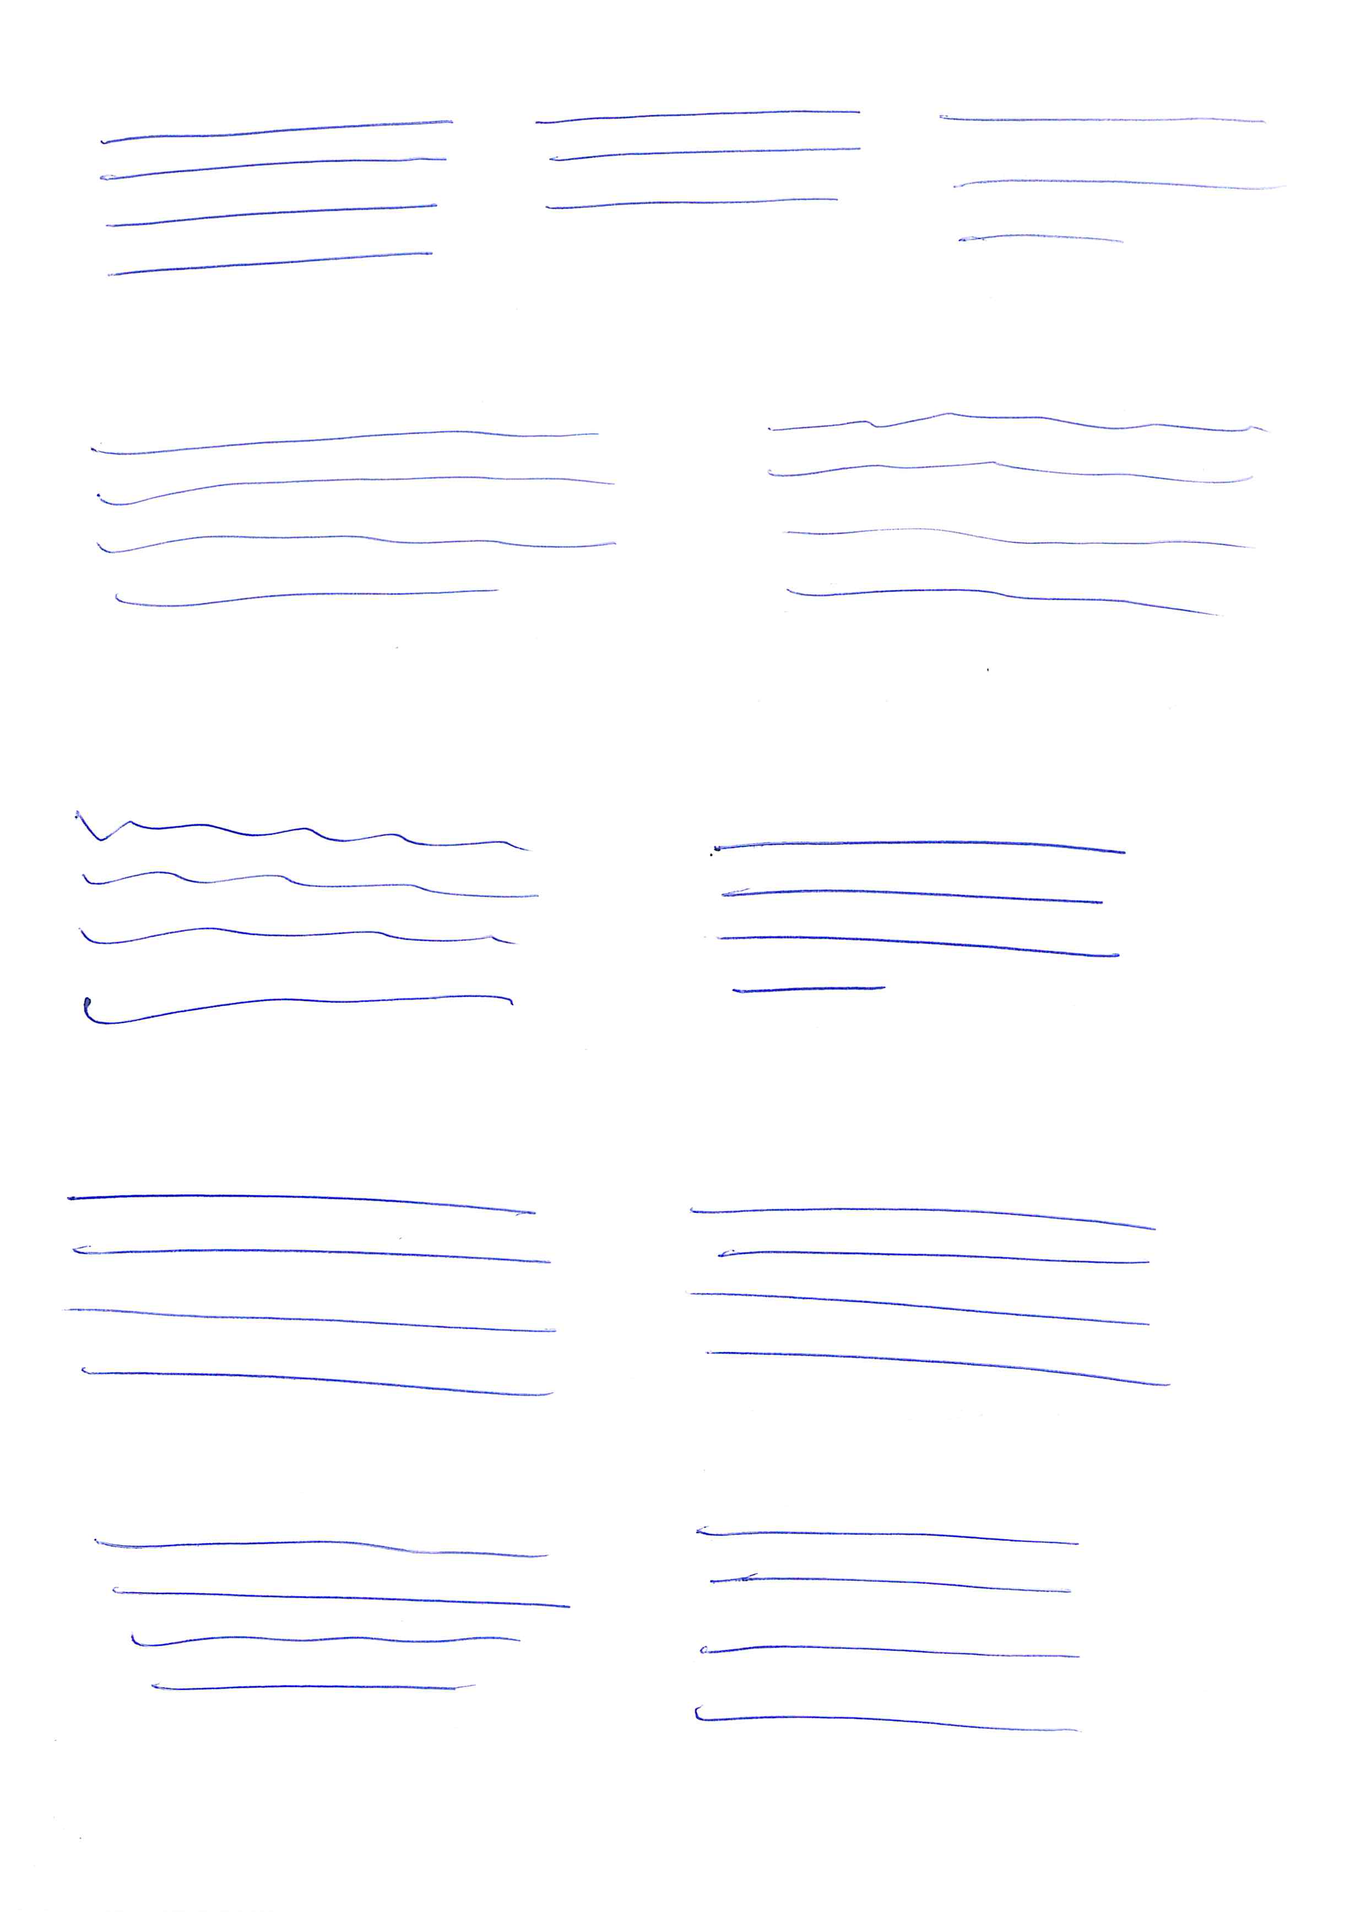Paragraph: (758, 401, 1282, 621), (55, 803, 543, 1034), (69, 1187, 571, 1409), (81, 418, 625, 618), (682, 1516, 1098, 1749), (682, 1201, 1172, 1397), (103, 1533, 574, 1703), (701, 827, 1125, 1002), (89, 112, 455, 285), (928, 103, 1298, 242), (525, 103, 863, 211)
